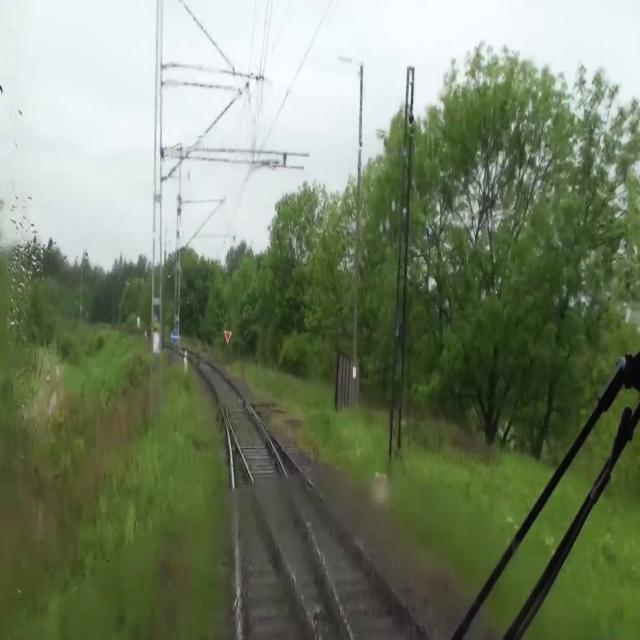rail-track: (195, 359, 348, 639), (275, 443, 424, 639), (231, 434, 313, 639), (187, 361, 213, 392)
